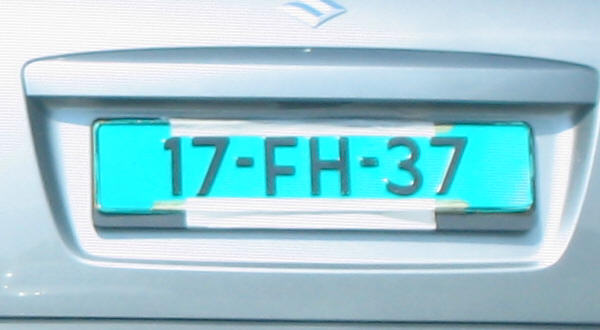license_plate: (92, 119, 536, 213)
